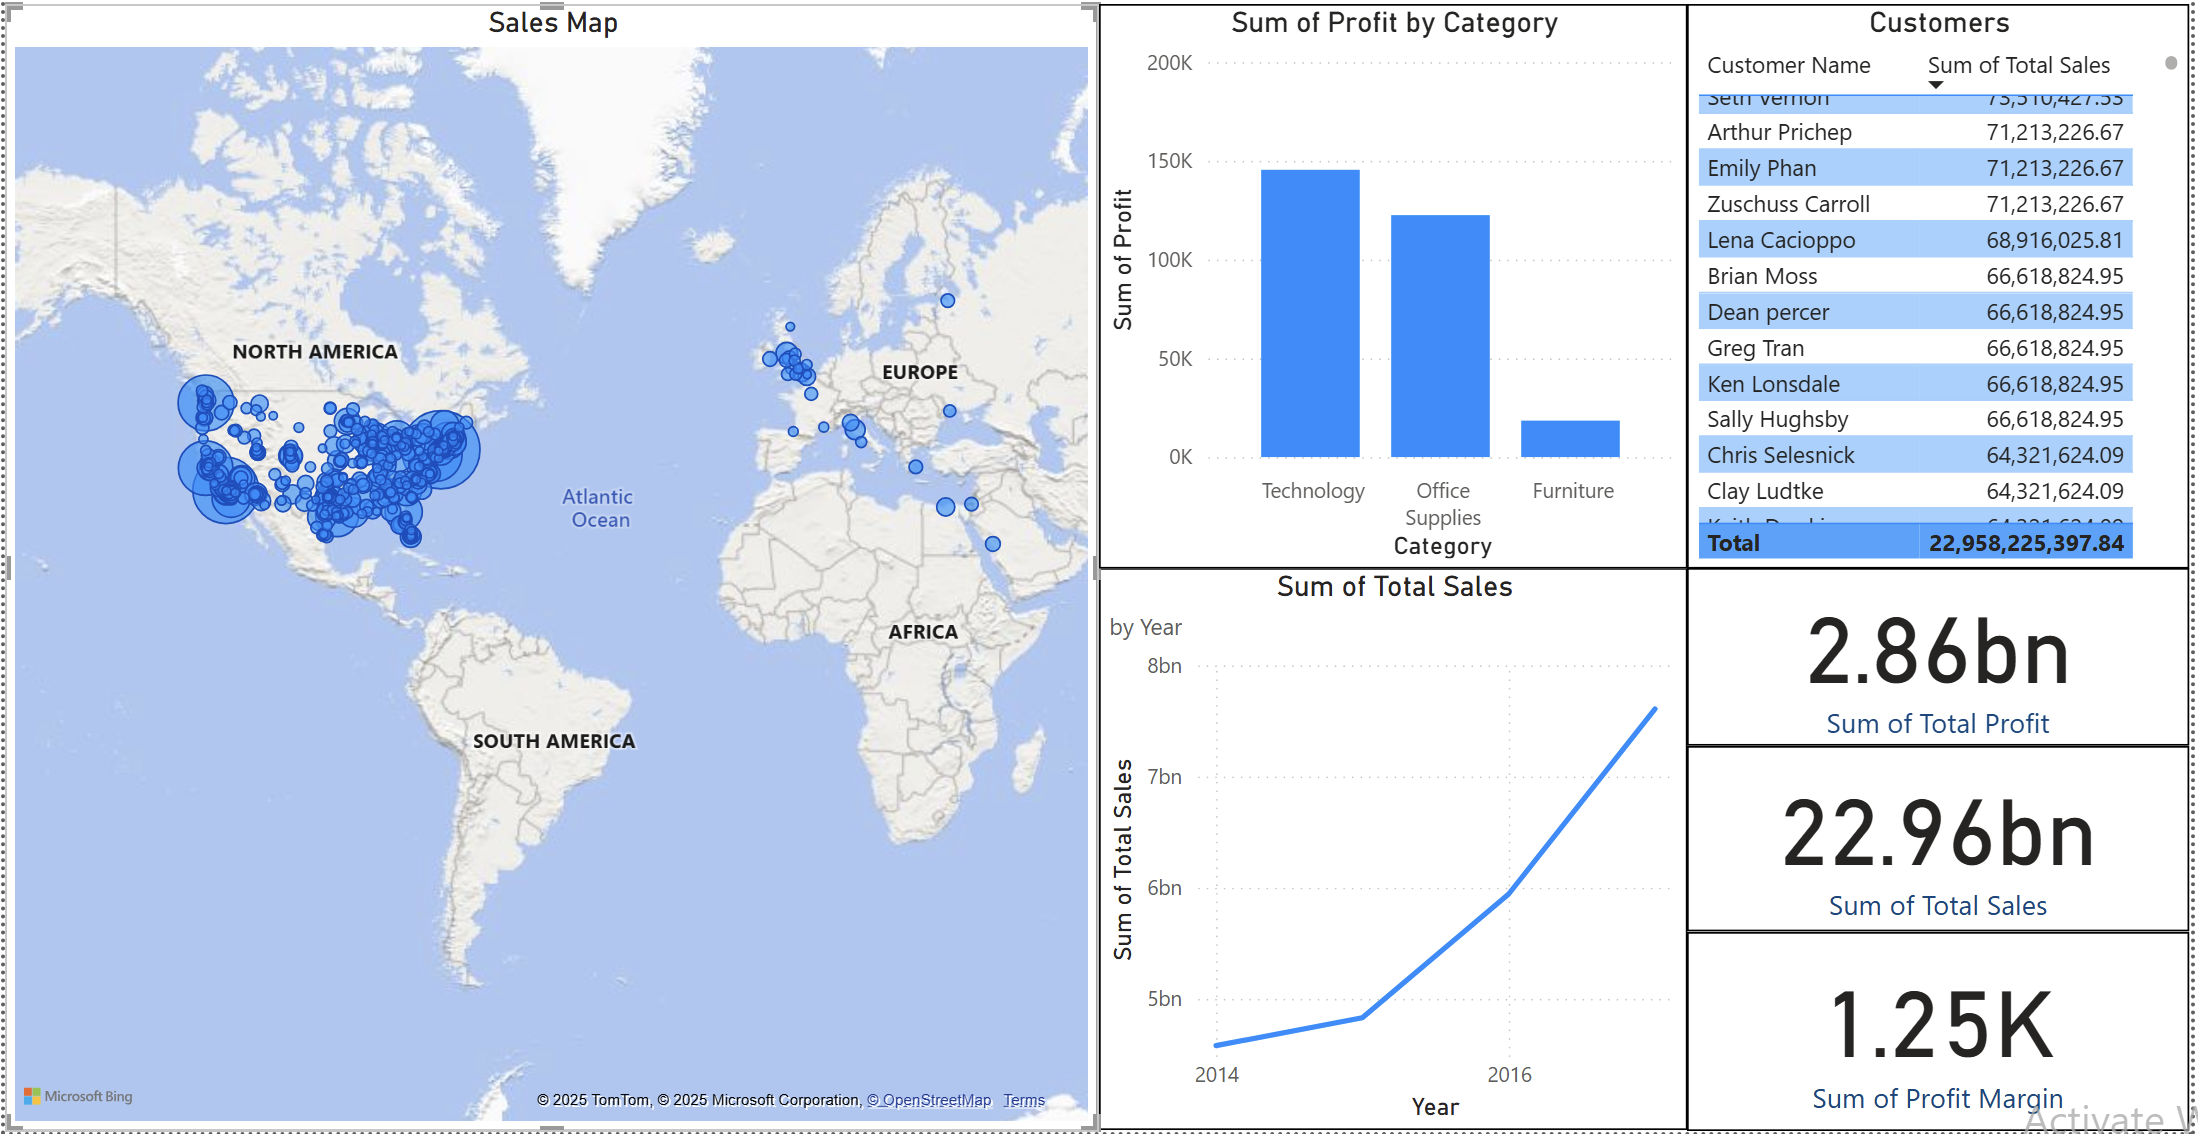

The page's visual inventory and layout, read from the dashboard file:
{"tool":"powerbi","page":{"name":"Page 1","canvas":[1280,720],"ordinal":0},"visuals":[{"type":"lineChart","fields":{"Y":["Sum(Sample - Superstore.Total Sales)"],"Category":["Sample - Superstore.Year"]},"box":[640,390.4,344.5,329.2],"z":0},{"type":"map","title":"Sales Map","fields":{"Category":["Sample - Superstore.City"],"Size":["Sum(Sample - Superstore.Sales)"],"Series":["Sample - Superstore.Total Sales"]},"box":[0,59.7,640,659.9],"z":1000},{"type":"clusteredColumnChart","fields":{"Category":["Sample - Superstore.Category"],"Y":["Sum(Sample - Superstore.Profit)"]},"box":[640,59.7,344.5,330.7],"z":2000},{"type":"tableEx","title":"Customers","fields":{"Values":["Sample - Superstore.Customer Name","Sum(Sample - Superstore.Total Sales)"]},"box":[984.5,59.7,294,330.7],"z":3000},{"type":"card","fields":{"Values":["Sum(Sample - Superstore.Total Sales)"]},"box":[984.5,494.5,294,108.7],"z":4000},{"type":"card","fields":{"Values":["Sum(Sample - Superstore.Total Profit)"]},"box":[984.5,390.4,294,104.1],"z":5000},{"type":"card","fields":{"Values":["Sum(Sample - Superstore.Profit Margin)"]},"box":[984.5,603.3,294,116.4],"z":6000}]}

Visuals, with their boxes on the page's 1280x720 design canvas (x1, y1, x2, y2). These are canvas units, not pixel positions in the 2198x1134 screenshot, which may show the page scaled, cropped or inside an application window:
lineChart - Sum(Sample - Superstore.Total Sales) x Sample - Superstore.Year: (x1=640, y1=390, x2=984, y2=720)
"Sales Map" map: (x1=0, y1=60, x2=640, y2=720)
clusteredColumnChart - Sample - Superstore.Category x Sum(Sample - Superstore.Profit): (x1=640, y1=60, x2=984, y2=390)
"Customers" tableEx: (x1=984, y1=60, x2=1278, y2=390)
card - Sum(Sample - Superstore.Total Sales): (x1=984, y1=494, x2=1278, y2=603)
card - Sum(Sample - Superstore.Total Profit): (x1=984, y1=390, x2=1278, y2=494)
card - Sum(Sample - Superstore.Profit Margin): (x1=984, y1=603, x2=1278, y2=720)
